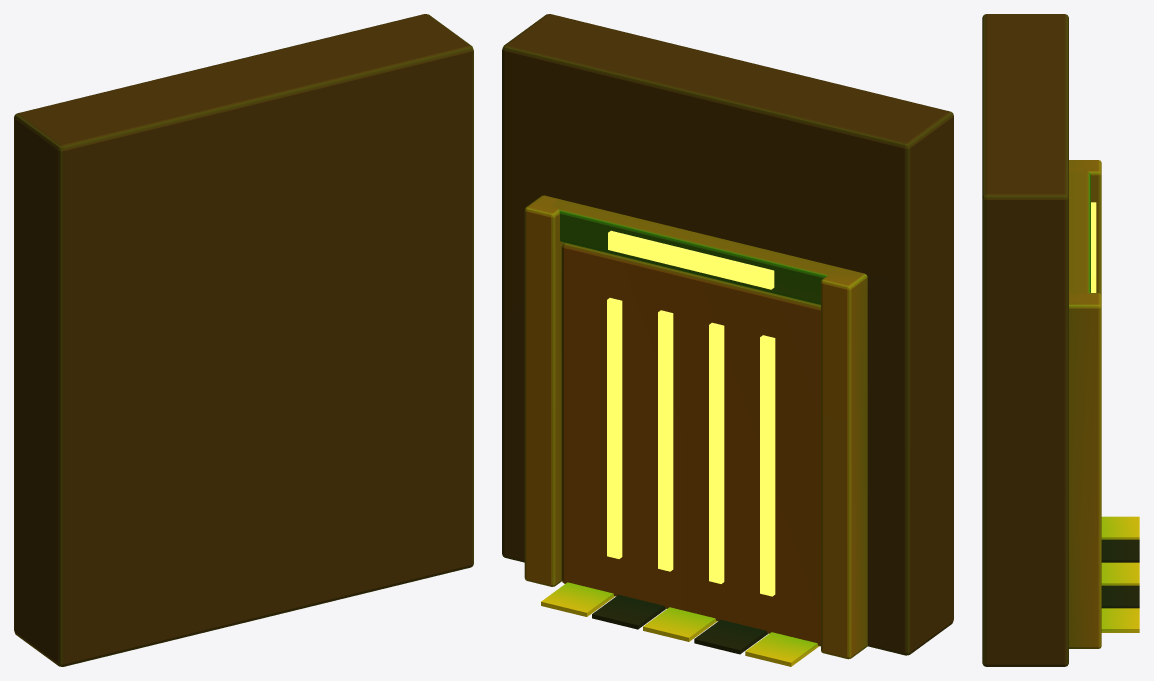
The model's file is door_frame.glb.
3 renders of one model, left to right at view 1: azimuth 30°, elevation 25°; view 2: azimuth 150°, elevation 25°; view 3: azimuth 270°, elevation 25°, orthographic. The views are drawn at different scales.
Visible parts, largest first — view 1: door_frame; view 2: door_frame; view 3: door_frame.
Part boxes in pixels (x1=…): door_frame: x1=14, y1=14, x2=473, y2=666; door_frame: x1=502, y1=14, x2=953, y2=666; door_frame: x1=982, y1=14, x2=1139, y2=666.
Size of the model in its own units: 4 by 4.8 by 1.45.
